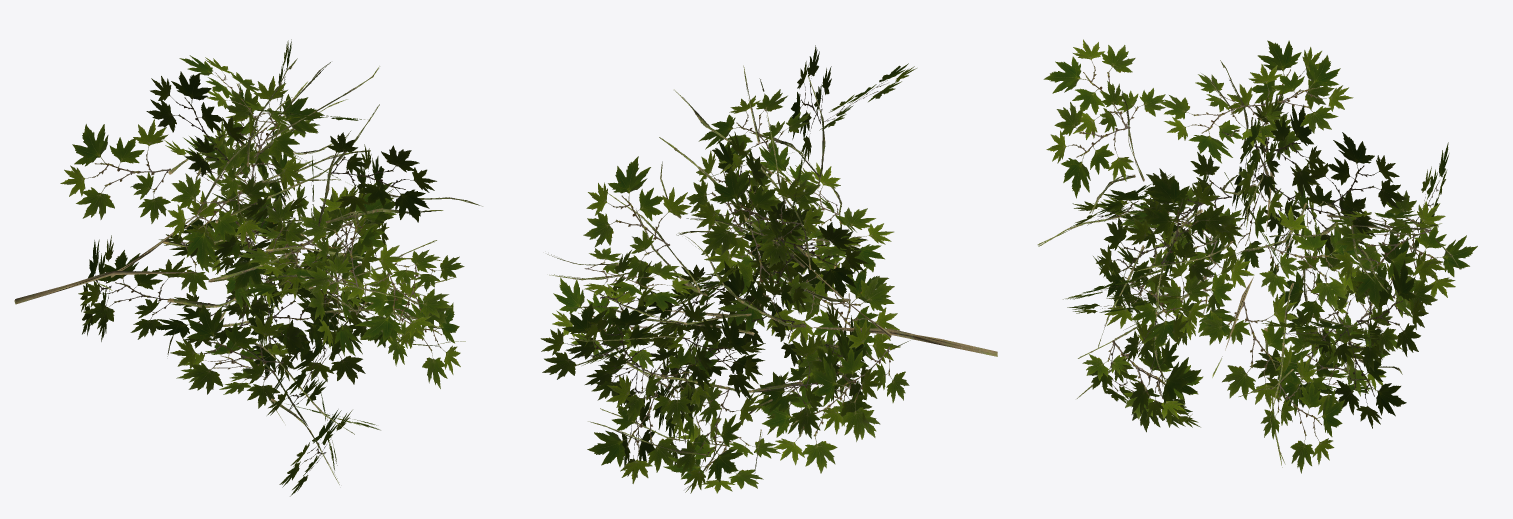
File: TreeSamples.fbx
3 renders of one model, left to right at view 1: azimuth 30°, elevation 25°; view 2: azimuth 150°, elevation 25°; view 3: azimuth 270°, elevation 25°, orthographic. The views are drawn at different scales.
Visible parts, largest first — view 1: Tree2LOD0; view 2: Tree2LOD0; view 3: Tree2LOD0.
Boxes of the visible parts, x1,y1,x2,y2 form: Tree2LOD0: [14, 39, 482, 496]; Tree2LOD0: [540, 45, 997, 493]; Tree2LOD0: [1037, 39, 1477, 473].
Size of what is drawn, in the model's own units: 74.21 by 71.14 by 73.34.
